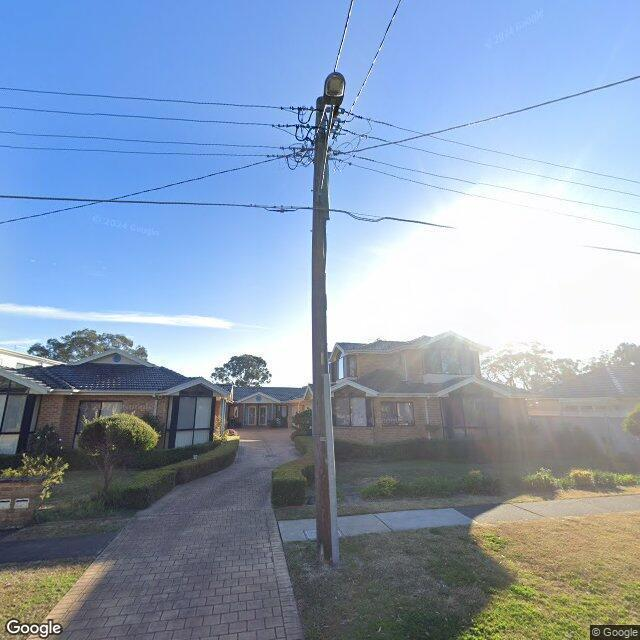crossarm: (327, 96, 344, 137)
streetlight: (317, 72, 346, 195)
timber-pole: (313, 98, 342, 564)
